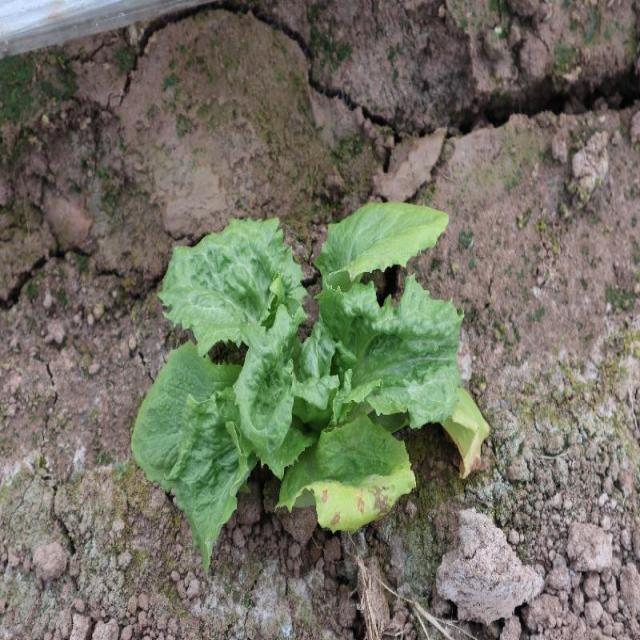crop: (134, 198, 464, 552)
